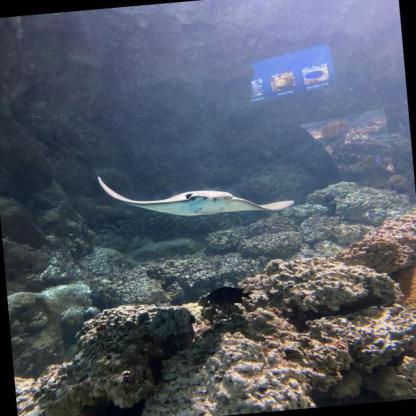fish: (203, 283, 257, 309)
stingray: (97, 159, 294, 226)
